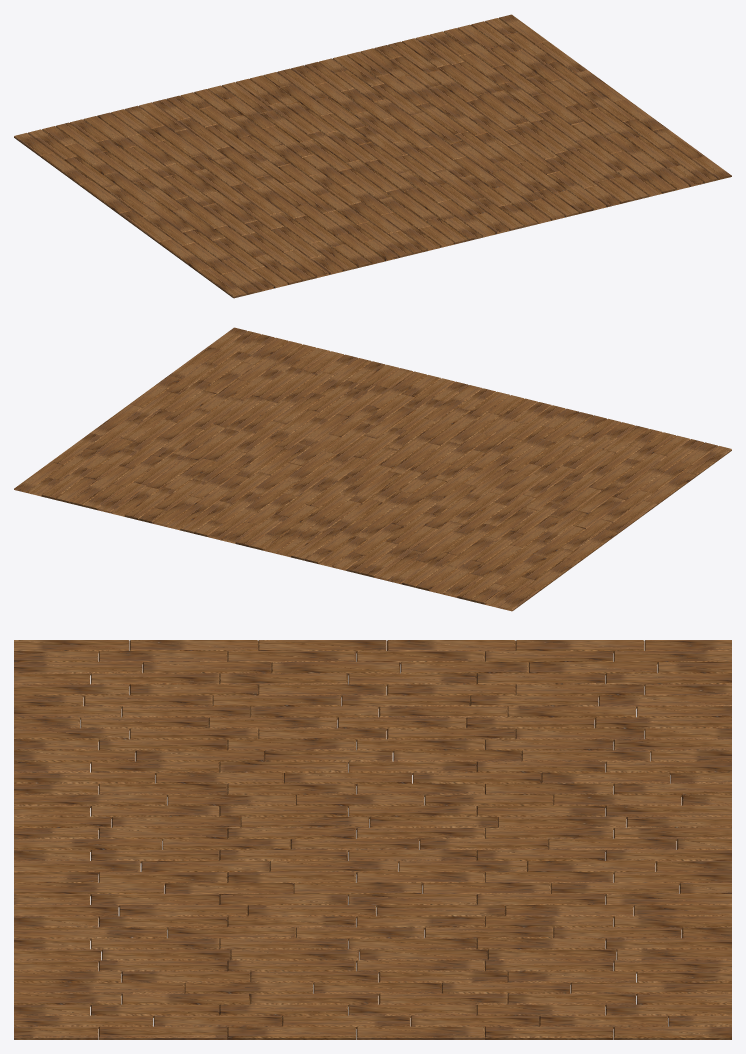
The model's file is kinkiTypeOneDefoult1.gltf.
3 renders of one model, top to bottom at view 1: azimuth 30°, elevation 25°; view 2: azimuth 150°, elevation 25°; view 3: azimuth 270°, elevation 25°, orthographic. The views are drawn at different scales.
Visible parts, largest first — view 1: kinkiTypeOneDefoult1; view 2: kinkiTypeOneDefoult1; view 3: kinkiTypeOneDefoult1.
Boxes of the visible parts, x1,y1,x2,y2 form: kinkiTypeOneDefoult1: (14,14,731,298); kinkiTypeOneDefoult1: (14,327,731,611); kinkiTypeOneDefoult1: (14,640,731,1039).
Size of the model in its own units: 7.32 by 0.025 by 5.59.
Materials: 1 (1 with a texture image).
